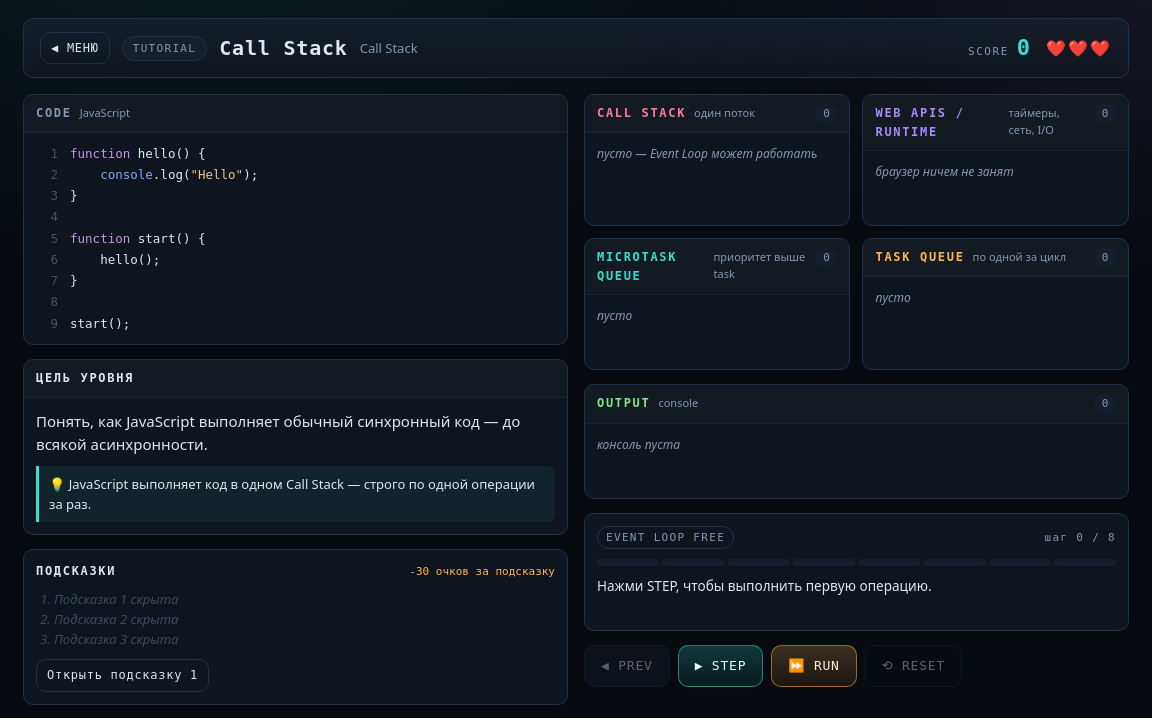
экран уровня › шаги симуляции › Output печатается по ходу симуляции
Step 1. Click the button "▶ STEP" → x=720, y=666, box x1=678 y1=645 x2=763 y2=687
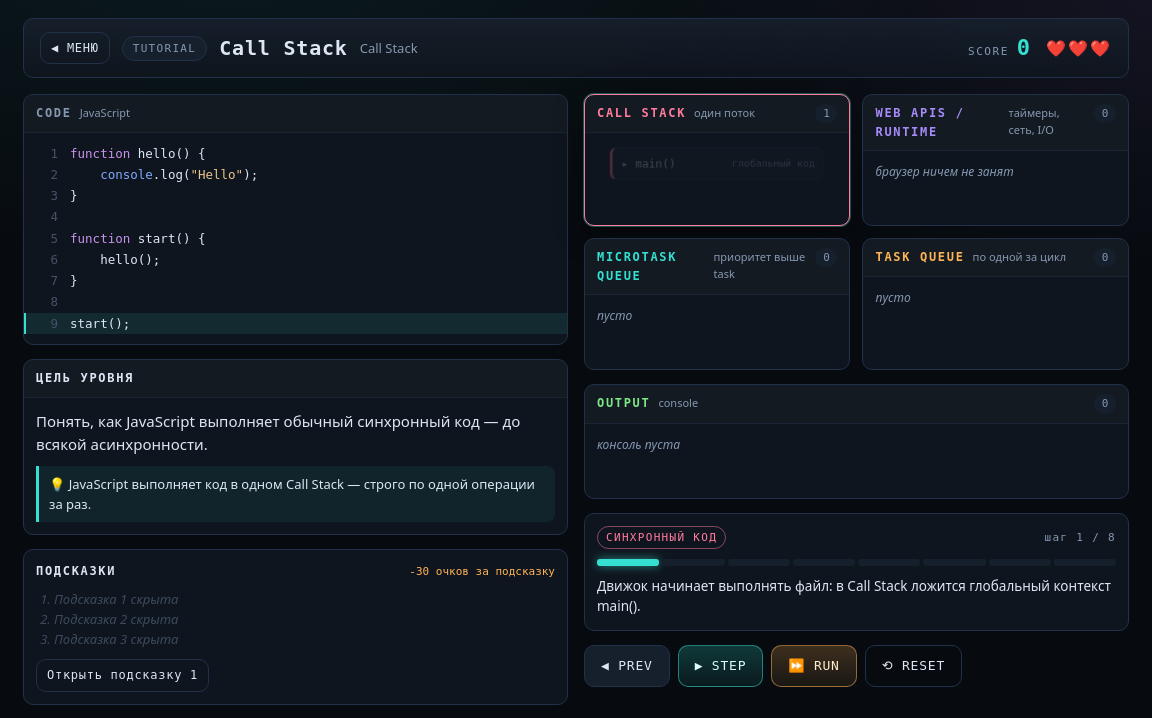
Step 2. Click the button "▶ STEP" → x=720, y=666, box x1=678 y1=645 x2=763 y2=687
(page scrolled)
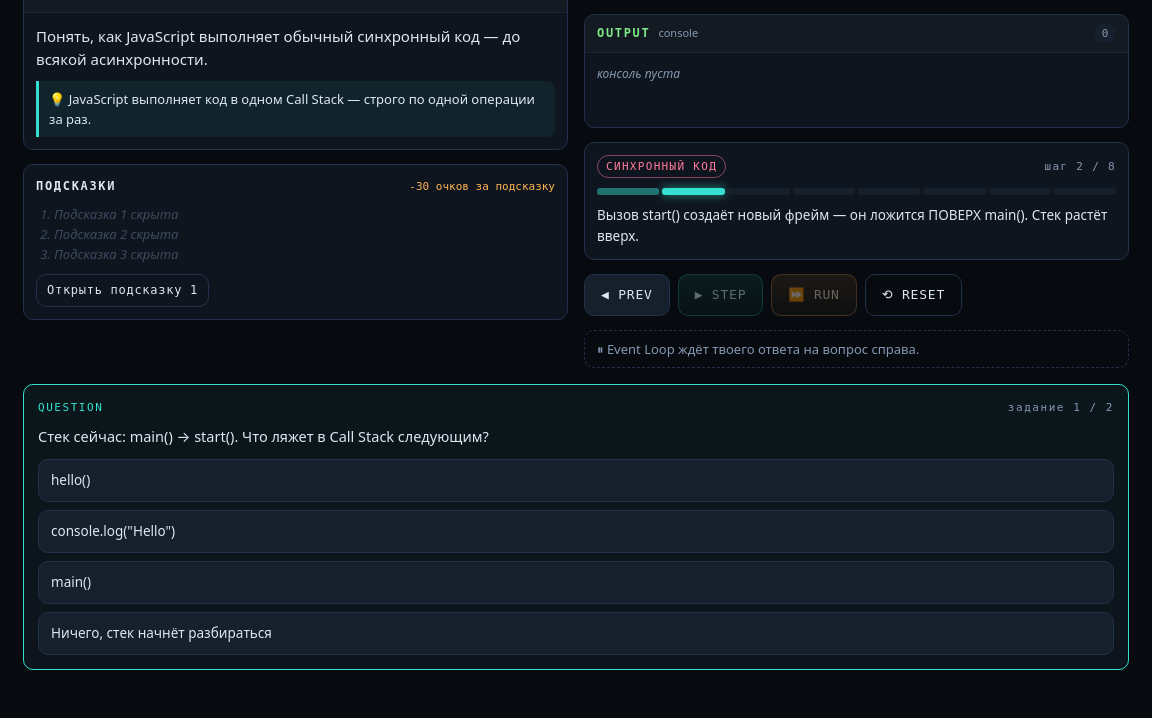
Step 3. Click the button "hello()" → x=71, y=480, box x1=38 y1=459 x2=1114 y2=502
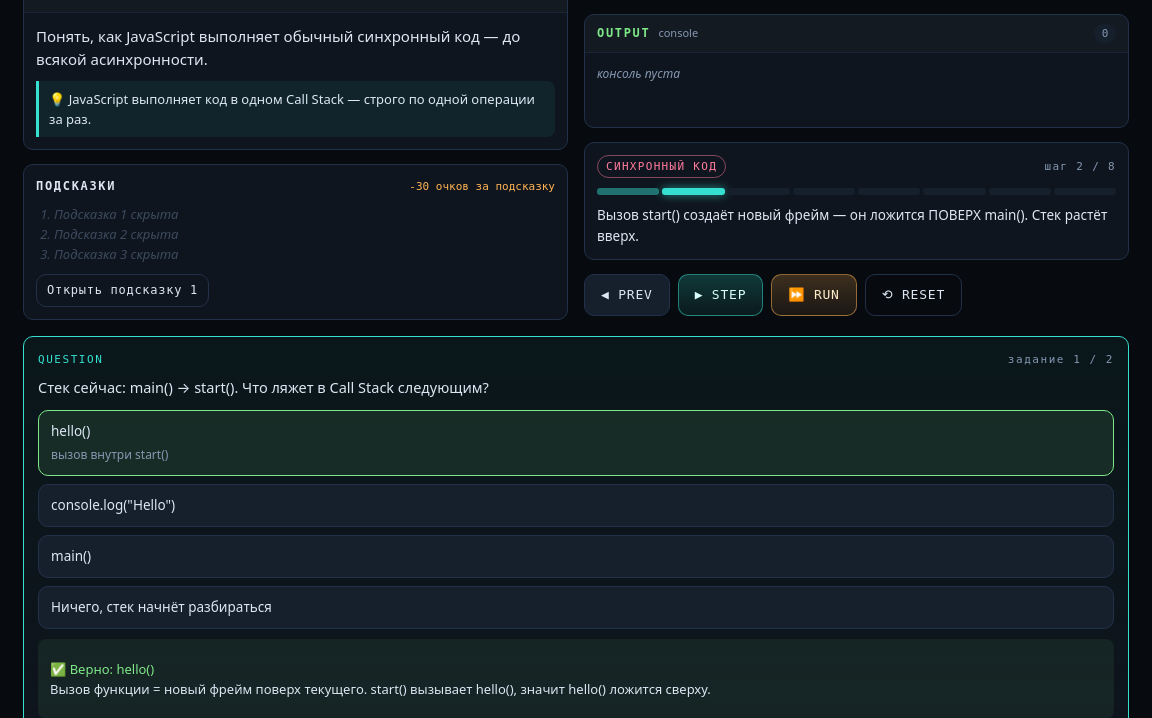
Step 4. Click the button "▶ STEP" → x=720, y=295, box x1=678 y1=274 x2=763 y2=316
(page scrolled)
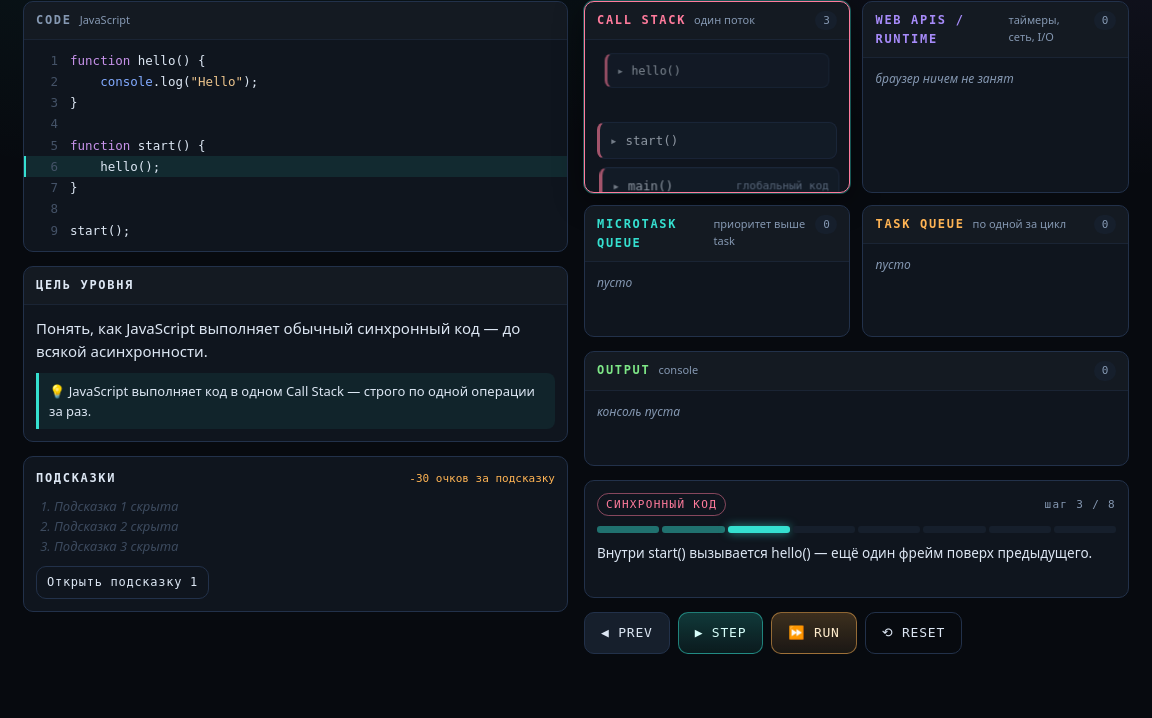
Step 5. Click the button "▶ STEP" → x=720, y=633, box x1=678 y1=612 x2=763 y2=654
(page scrolled)
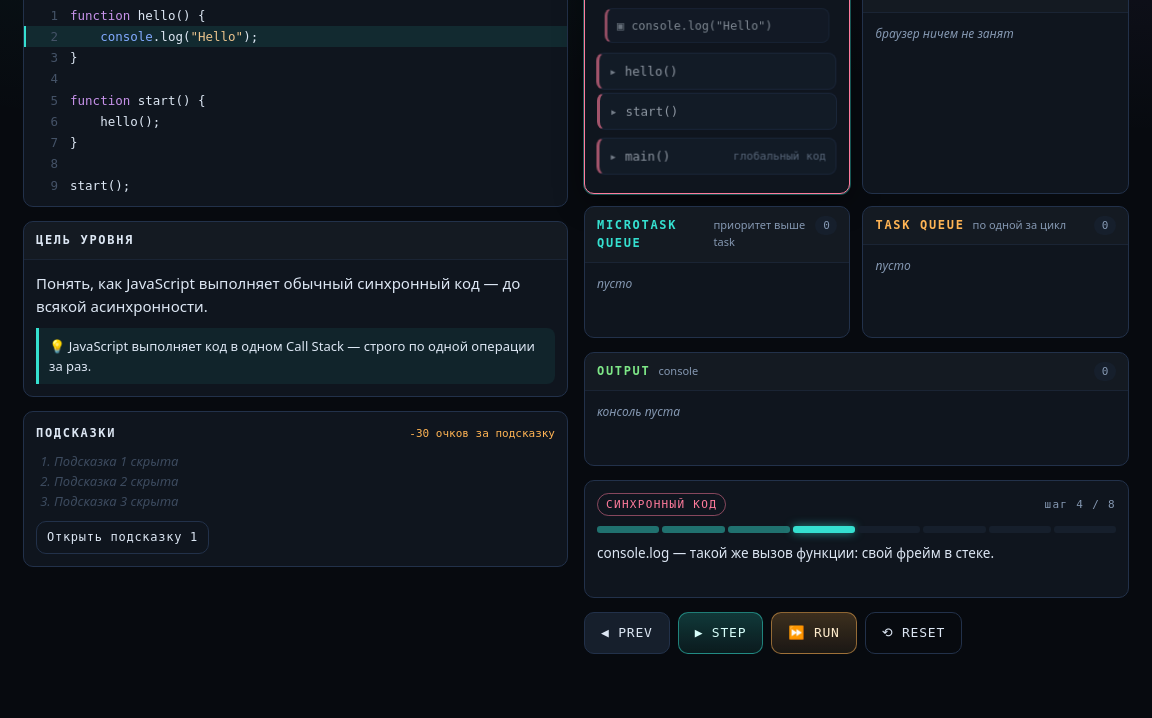
Step 6. Click the button "▶ STEP" → x=720, y=633, box x1=678 y1=612 x2=763 y2=654
(page scrolled)
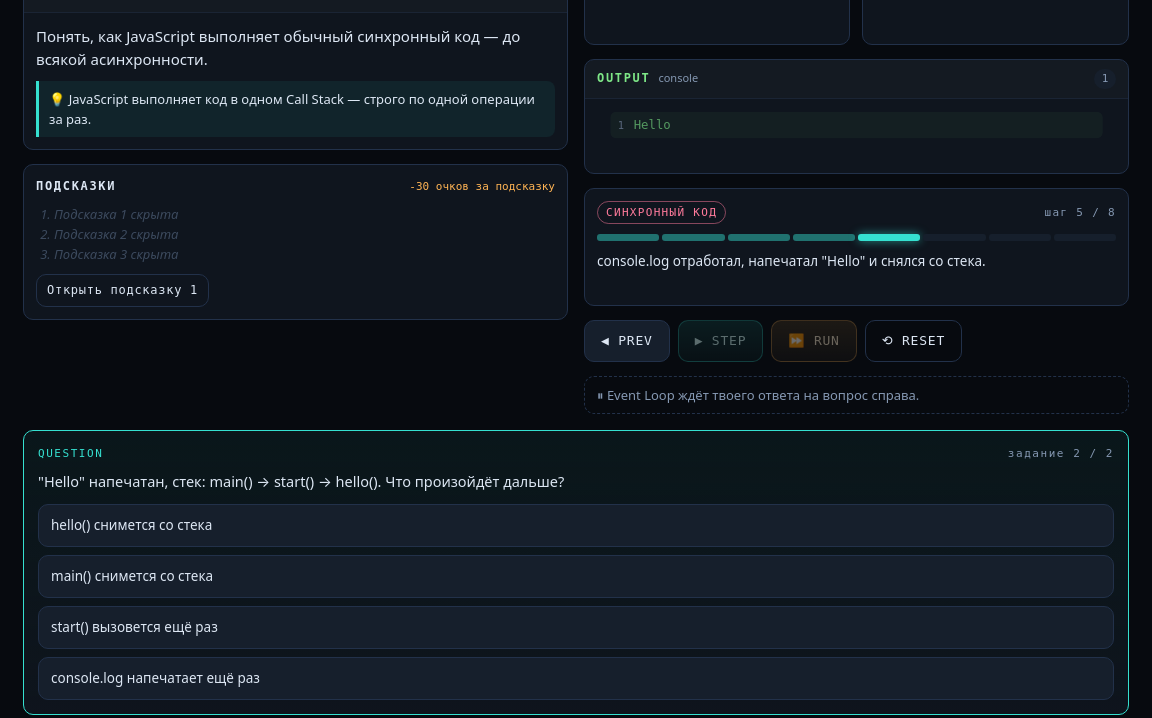
Check: the element with class "output-list" shows "Hello", box x1=623 y1=117 x2=662 y2=132
